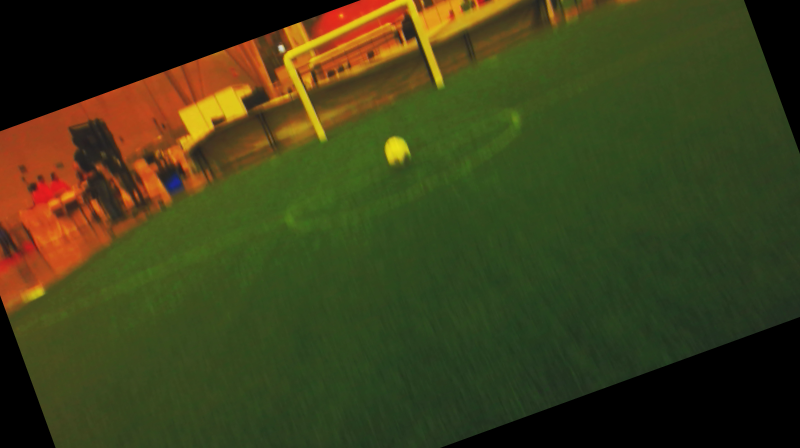post: (429, 71, 449, 97), (310, 127, 331, 149)
